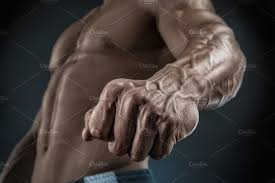hand: (90, 49, 206, 157)
